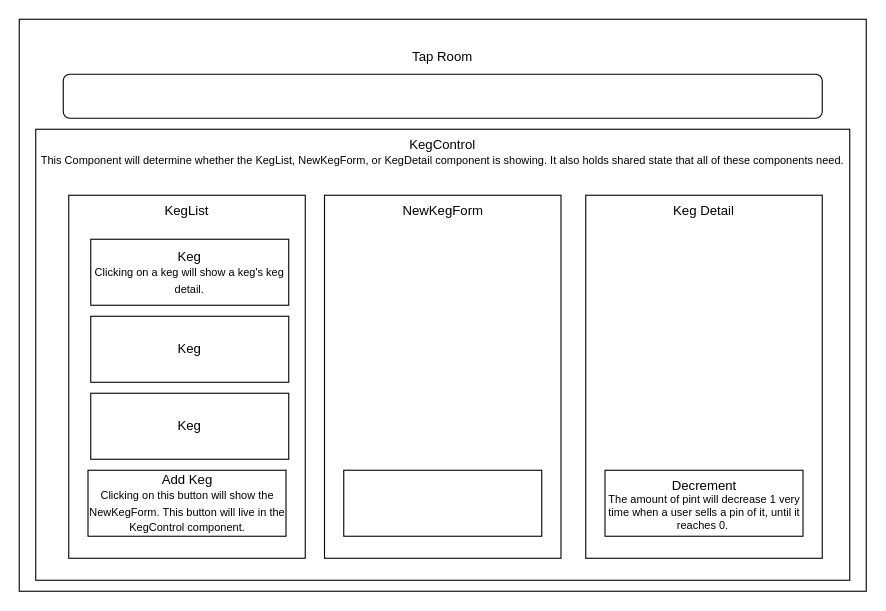
This 886x611 diagram has some shape labels left out. Each missing label, with the centre of its shape:
"Header" belongs at point (442, 95).
"Submit Clicking this button will add a keg and then show the KegList component." belongs at point (442, 502).
